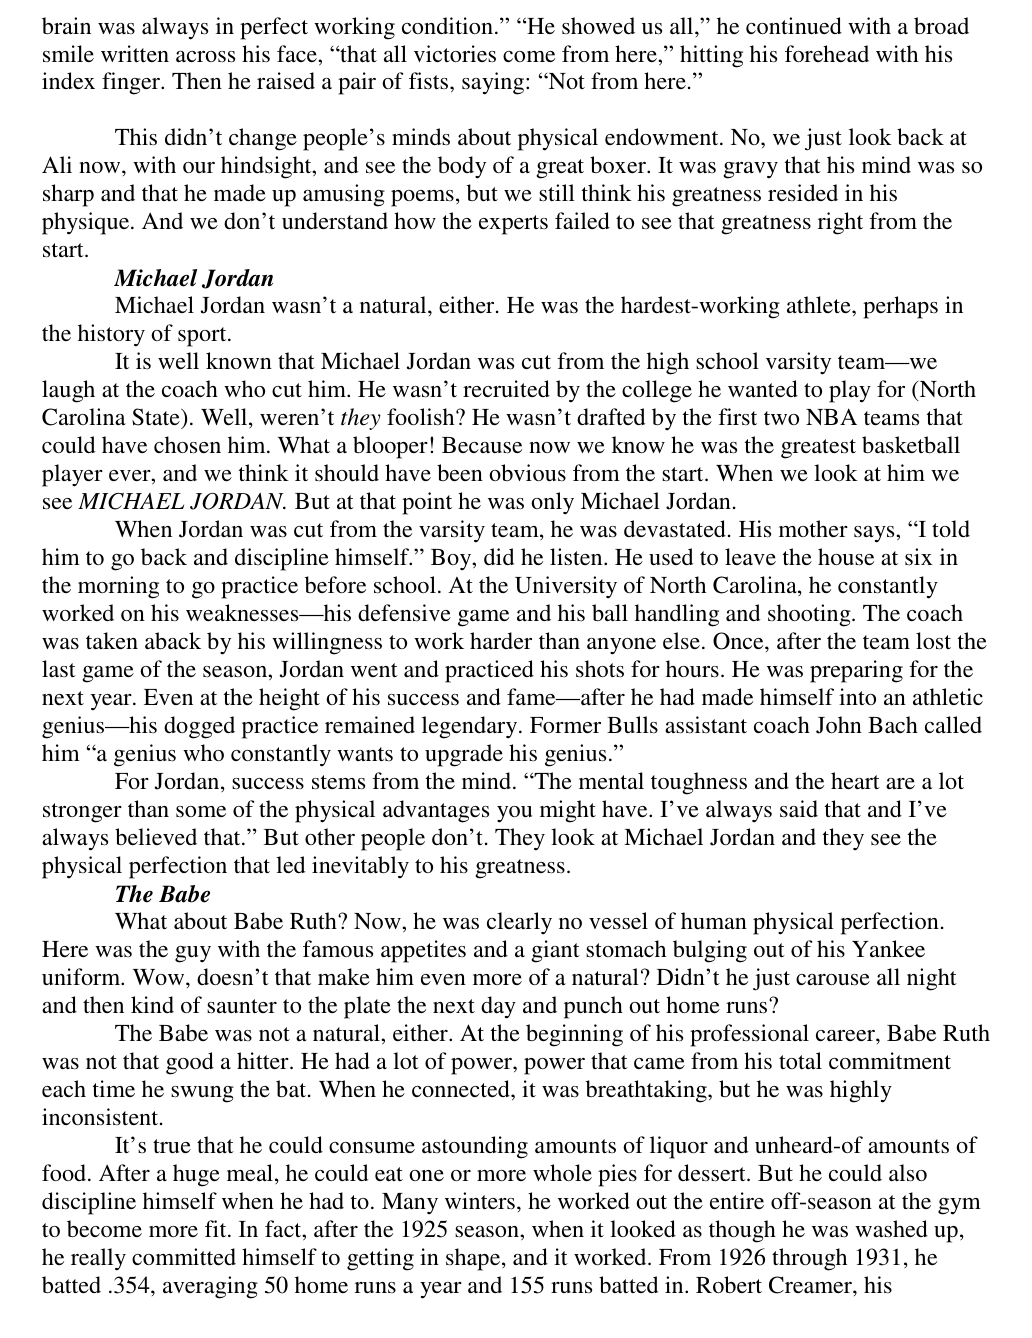latin: (37, 518, 990, 767), (37, 293, 978, 517), (36, 1127, 981, 1300), (34, 127, 986, 261), (33, 766, 970, 879), (38, 909, 958, 1022), (28, 1022, 991, 1127), (38, 14, 976, 104), (114, 270, 276, 294), (113, 879, 211, 909)
